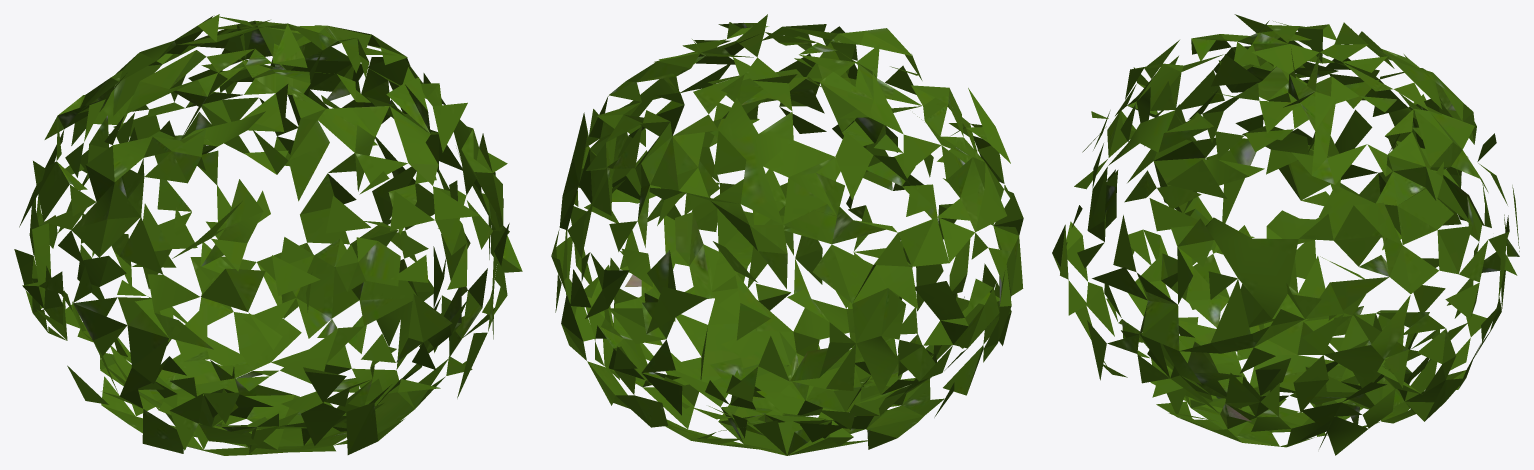
File: bush.glb
The picture shows the model from 3 angles, left to right: view 1: azimuth 30°, elevation 25°; view 2: azimuth 150°, elevation 25°; view 3: azimuth 270°, elevation 25°; orthographic projection. The views are drawn at different scales.
Visible parts, largest first — view 1: Mesh_0; view 2: Mesh_0; view 3: Mesh_0.
Part boxes in pixels (<box>): Mesh_0: <box>14,14,522,455</box>; Mesh_0: <box>551,14,1023,455</box>; Mesh_0: <box>1052,14,1519,455</box>.
Size of the model in its own units: 1.79 by 1.57 by 1.74.
1 material, 1 textured.
